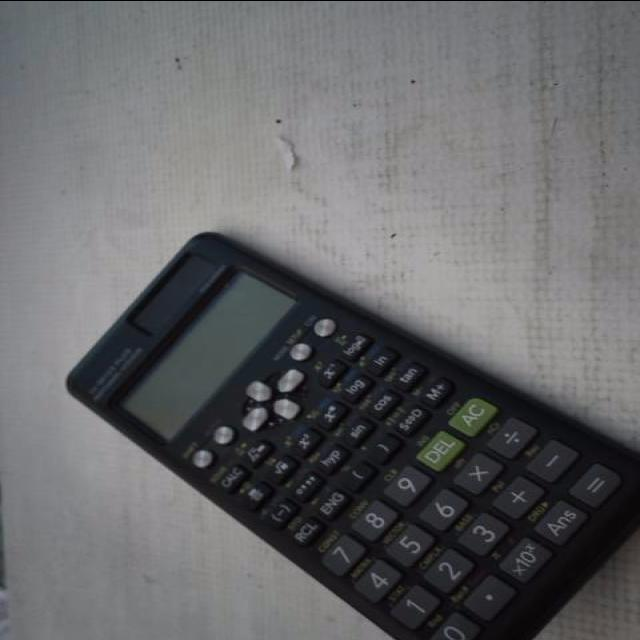Calculator: (61, 229, 638, 640)
